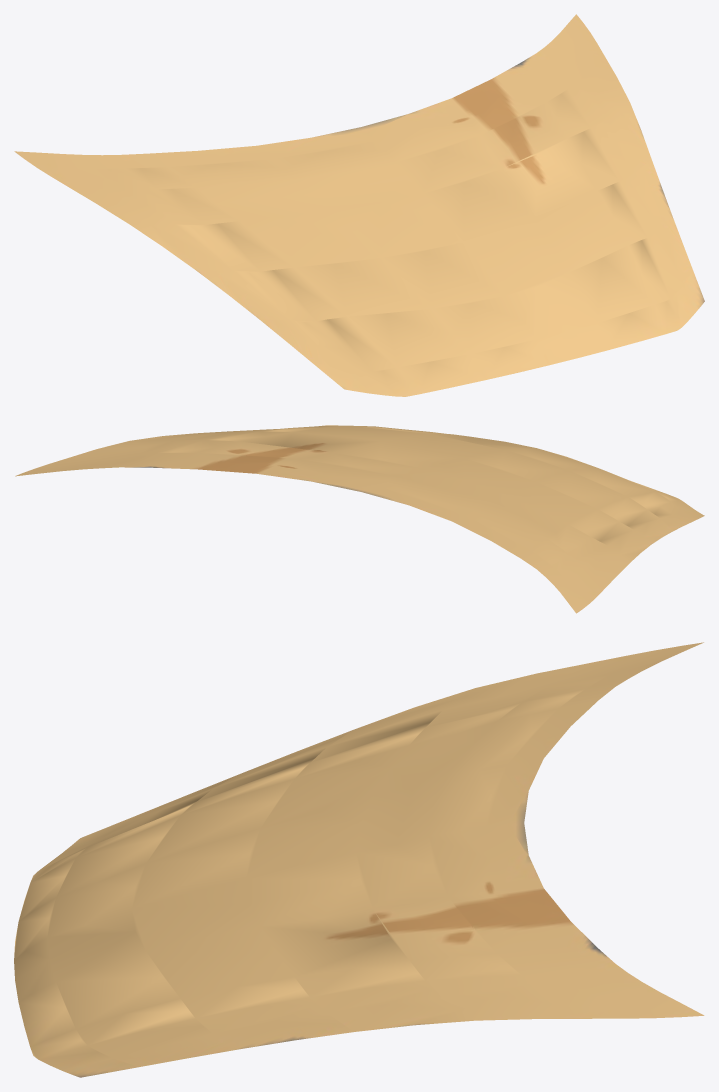
Rendered from CofreAudi2.obj.
The picture shows the model from 3 angles, top to bottom: view 1: azimuth 30°, elevation 25°; view 2: azimuth 150°, elevation 25°; view 3: azimuth 270°, elevation 25°; orthographic projection. The views are drawn at different scales.
Visible parts, largest first — view 1: Cofre; view 2: Cofre; view 3: Cofre.
Boxes of the visible parts, x1,y1,x2,y2 form: Cofre: (14, 14, 704, 396); Cofre: (15, 425, 704, 613); Cofre: (14, 642, 704, 1077).
Bounding box in the file's own units: 42.18 × 7.51 × 32.98.
